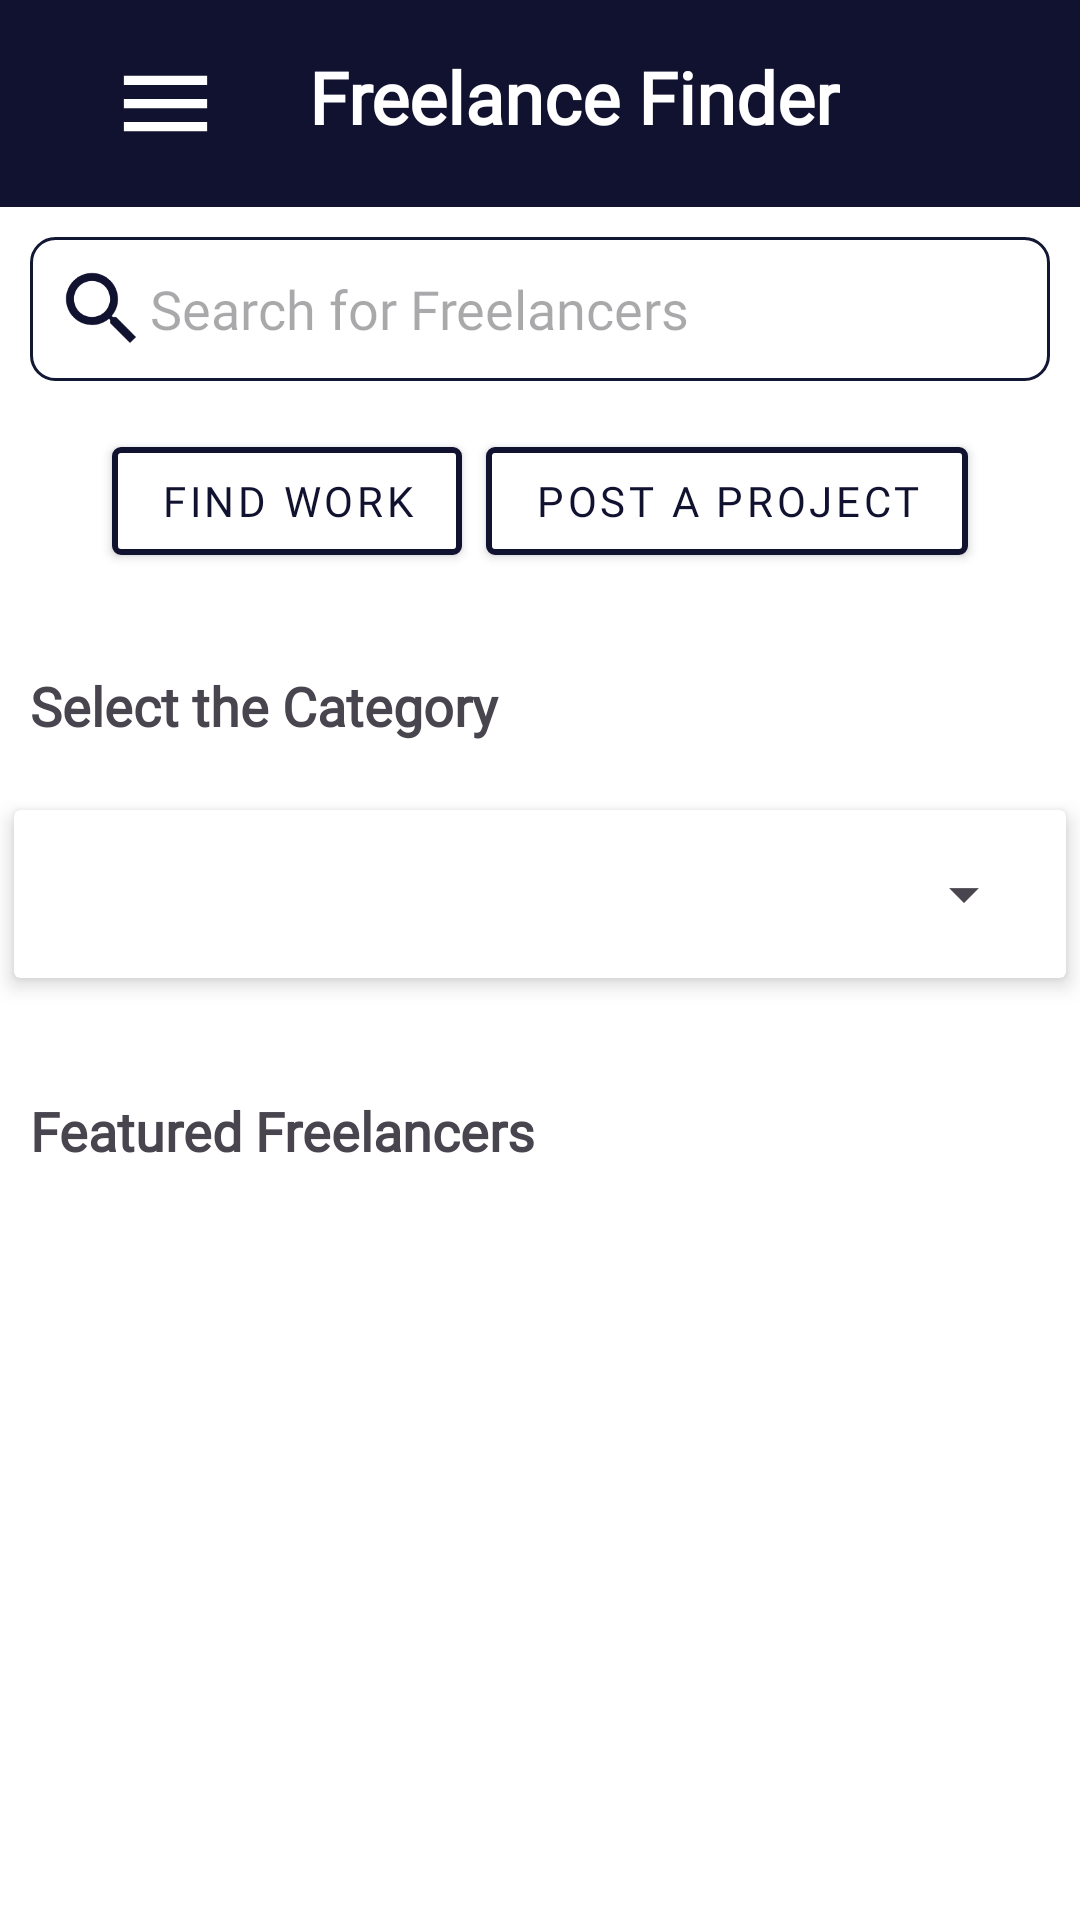

Named icons in this screenshot (1080*1920) and their centers, point (x, y):
Menu: point (165, 103)
